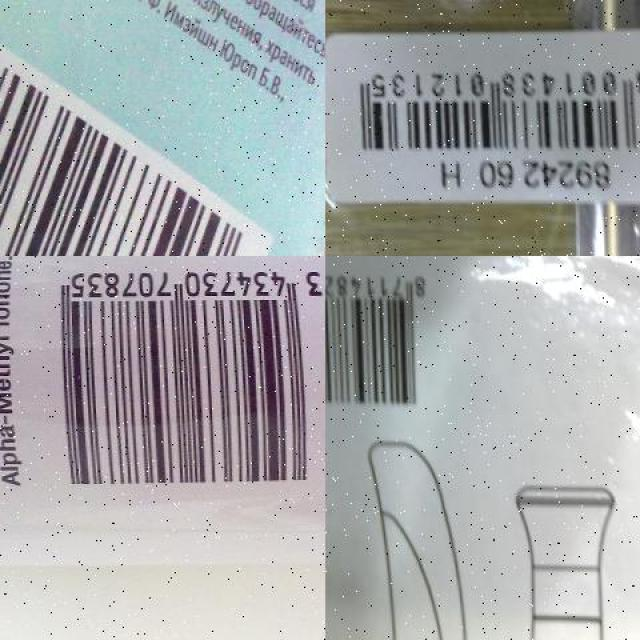Barcode: (34, 256, 326, 504), (0, 0, 280, 256), (325, 34, 640, 202), (325, 256, 436, 416)
